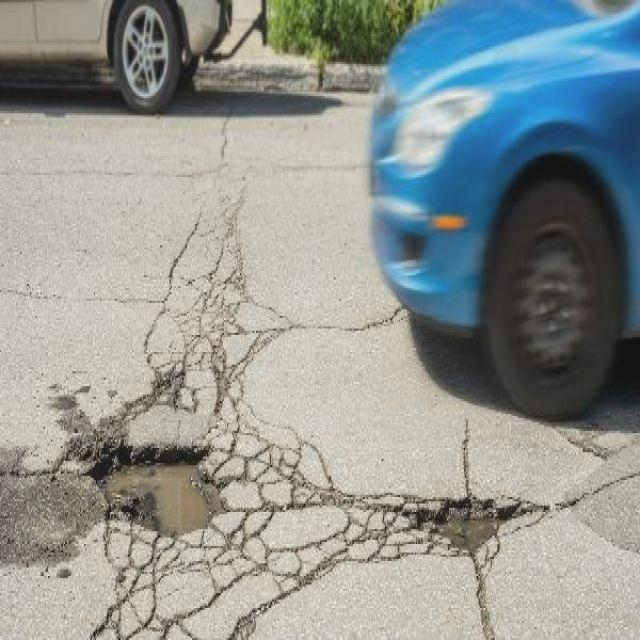Pothole: (90, 420, 227, 535), (407, 491, 513, 557)
